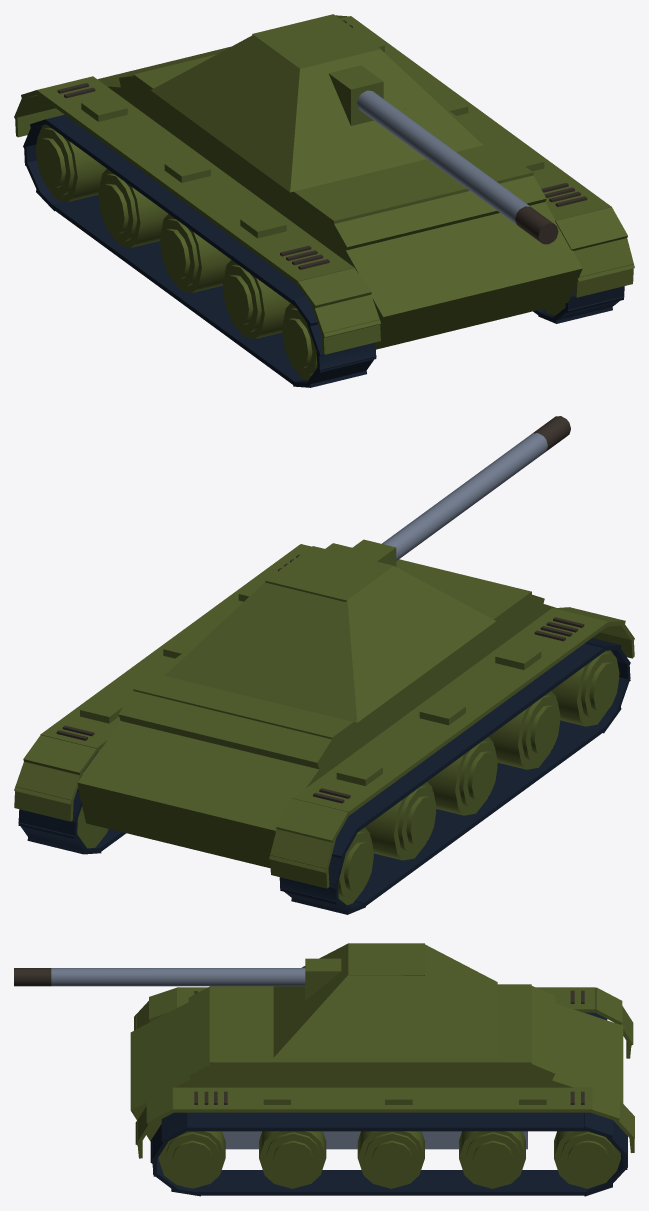
File: War_Tank.fbx
The picture shows the model from 3 angles, top to bottom: view 1: azimuth 30°, elevation 25°; view 2: azimuth 150°, elevation 25°; view 3: azimuth 270°, elevation 25°; orthographic projection. The views are drawn at different scales.
Visible parts, largest first — view 1: War_Tank; view 2: War_Tank; view 3: War_Tank.
Part boxes in pixels (bbox=[...]): War_Tank: bbox=[14, 14, 634, 387]; War_Tank: bbox=[14, 416, 634, 914]; War_Tank: bbox=[14, 943, 634, 1196].
Bounding box in the file's own units: 1448 × 3109 × 960.
